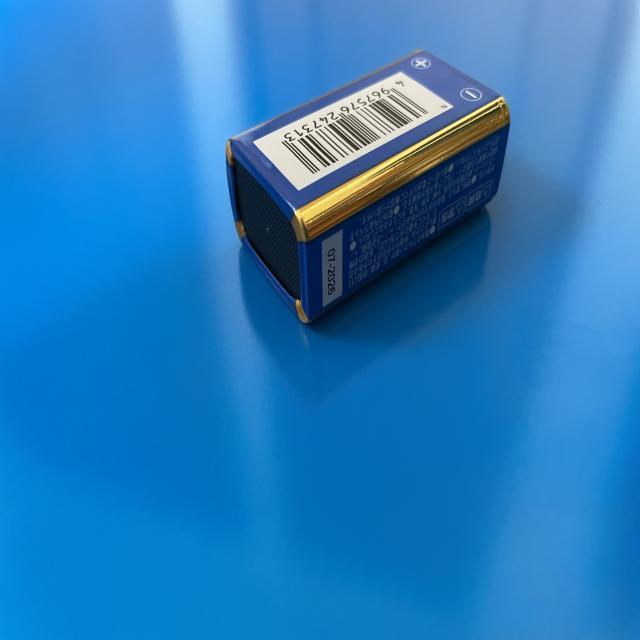9V: (225, 49, 510, 326)
